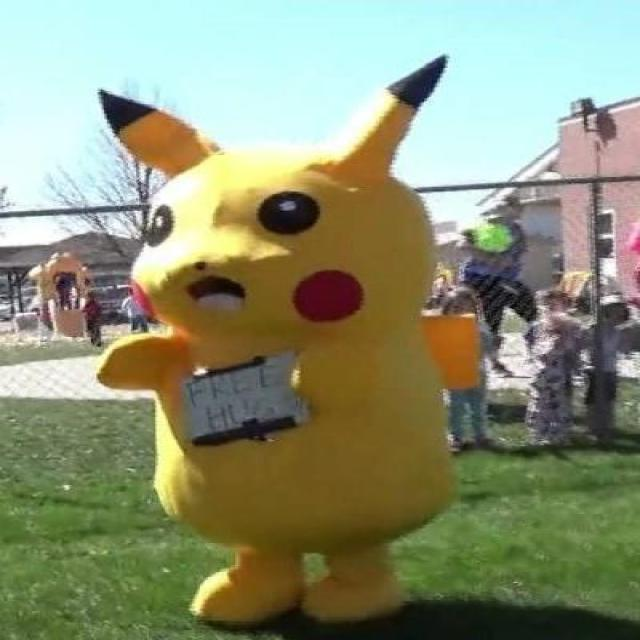pikachu: (95, 52, 469, 628)
